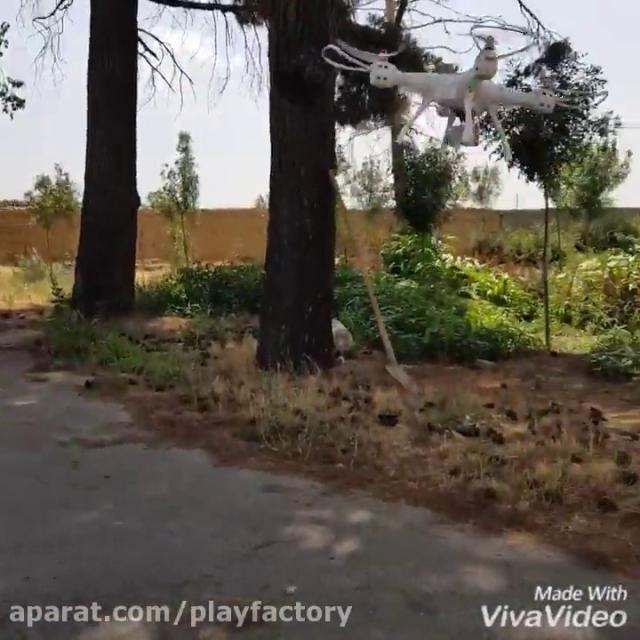drone: (317, 34, 607, 160)
